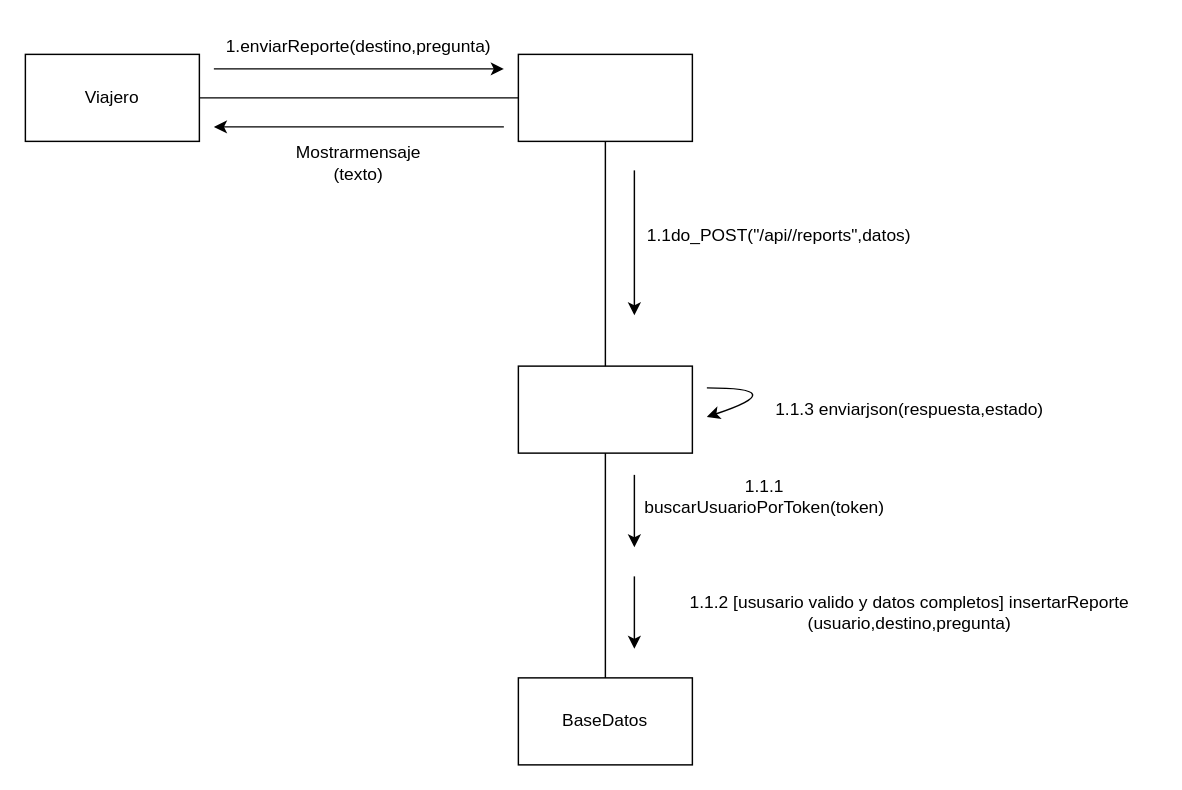
Some shapes in this 1182 by 790 pixel diagram are drawn without their labels. Each missing label, with the centre of its shape:
"ClienteWeb" belongs at pixel 604 97.
"ServidorFlugel" belongs at pixel 604 409.
